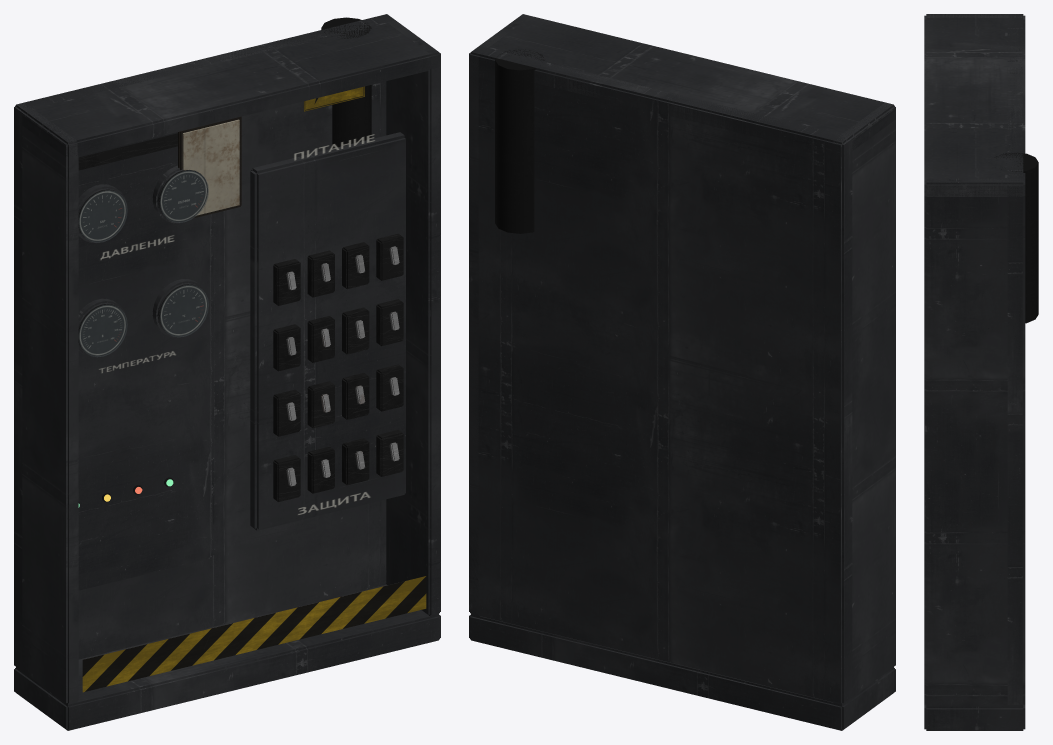
Rendered from generator_panel.gltf.
3 views of the same model, side by side, from view 1: azimuth 30°, elevation 25°; view 2: azimuth 150°, elevation 25°; view 3: azimuth 270°, elevation 25° (orthographic). The views are drawn at different scales.
Parts seen in each view (by area): view 1: Body; view 2: Body; view 3: Body.
Part boxes in pixels (x1,y1,x2,y2): Body: [14, 14, 440, 730]; Body: [469, 14, 895, 730]; Body: [924, 14, 1038, 730].
Size of the model in its own units: 1.2 by 1.8 by 0.34.
Materials: 14 (10 with a texture image).
